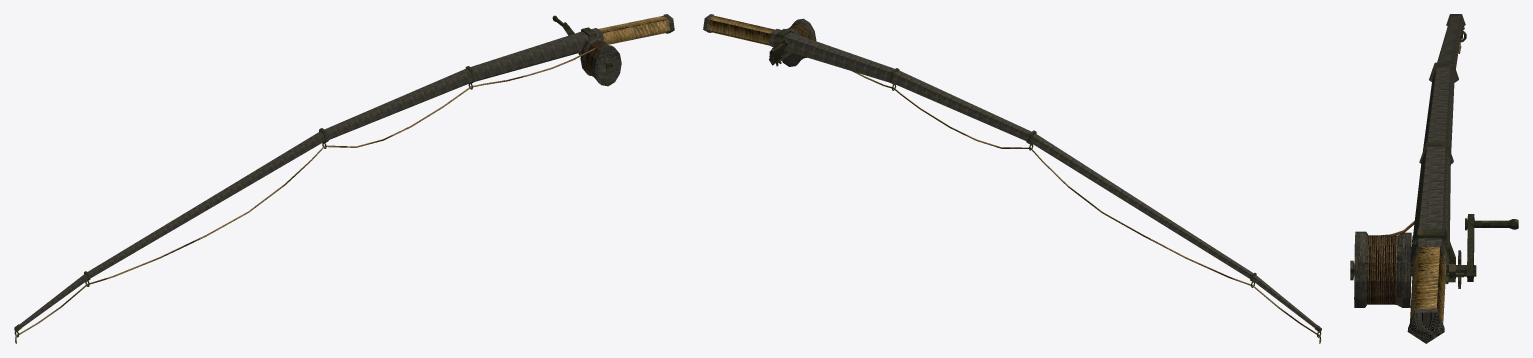
File: MALAWEDKA.glb
The picture shows the model from 3 angles, left to right: view 1: azimuth 30°, elevation 25°; view 2: azimuth 150°, elevation 25°; view 3: azimuth 270°, elevation 25°; orthographic projection. The views are drawn at different scales.
Visible parts, largest first — view 1: MALAWEDKA; view 2: MALAWEDKA; view 3: MALAWEDKA.
Boxes of the visible parts, x1,y1,x2,y2 form: MALAWEDKA: (14,14,674,343); MALAWEDKA: (703,14,1321,343); MALAWEDKA: (1350,14,1518,343).
Size of the model in its own units: 1.54 by 0.4198 by 0.1857.
Materials: 4 (4 with a texture image).
